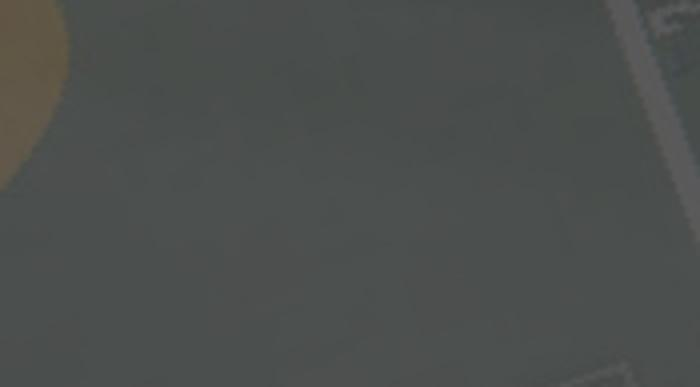Apron: (1, 1, 76, 186)
